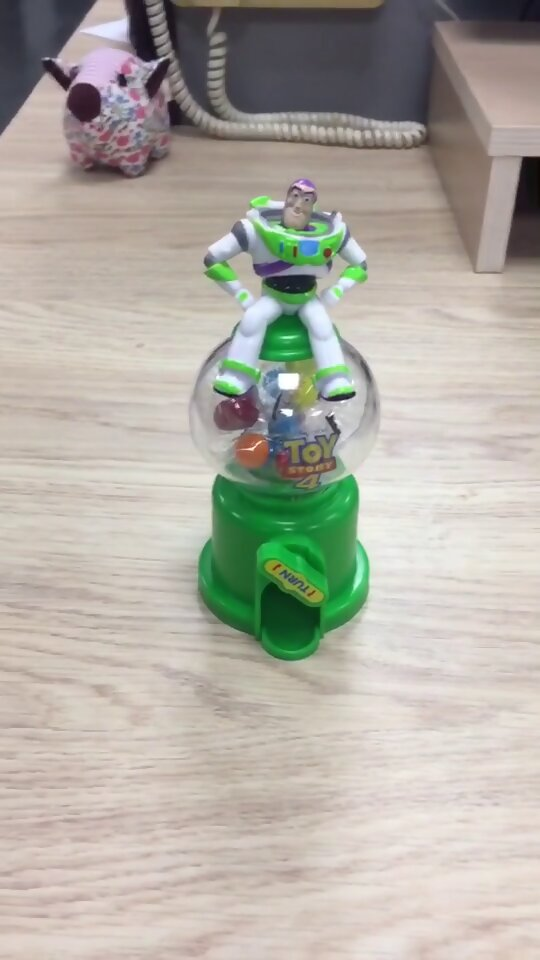buzz: (183, 170, 383, 661)
